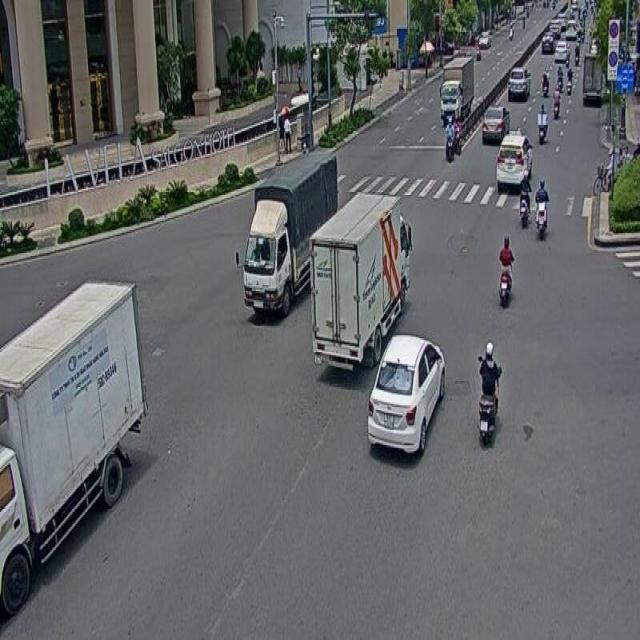car: (369, 326, 442, 466)
motorcycle: (476, 338, 501, 448), (498, 235, 515, 308)
truck: (0, 279, 153, 625), (314, 186, 412, 376), (242, 149, 337, 320)
